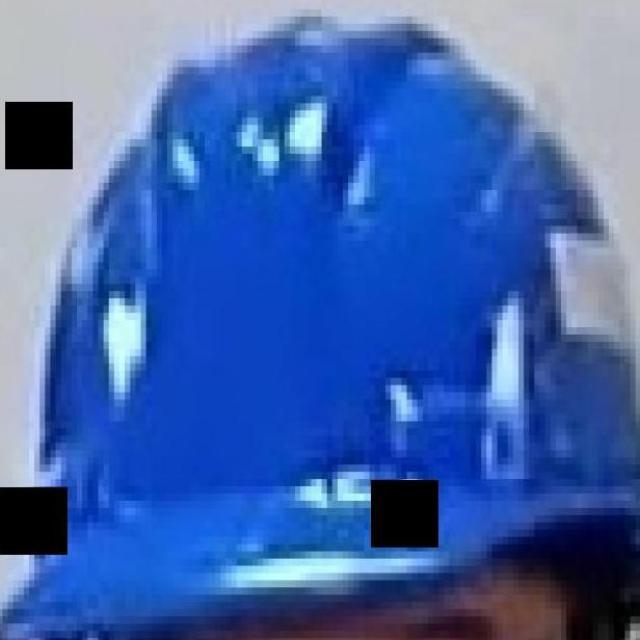blue helmet: (22, 26, 640, 624)
